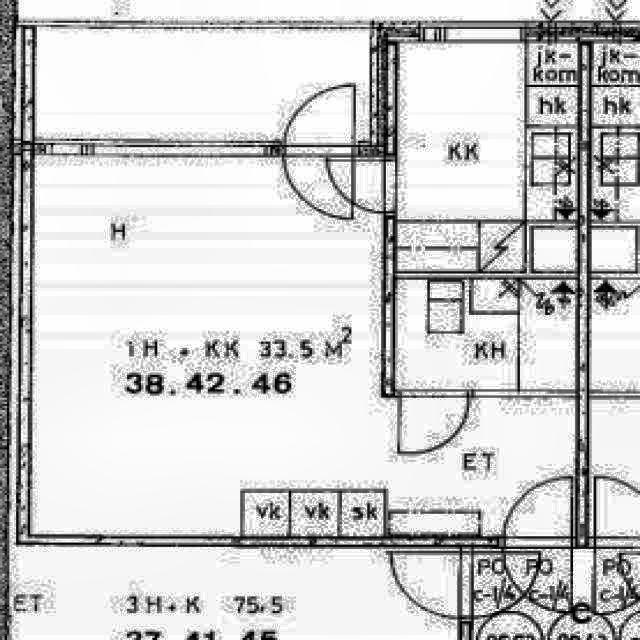room: (398, 42, 578, 272), (395, 280, 577, 390)
